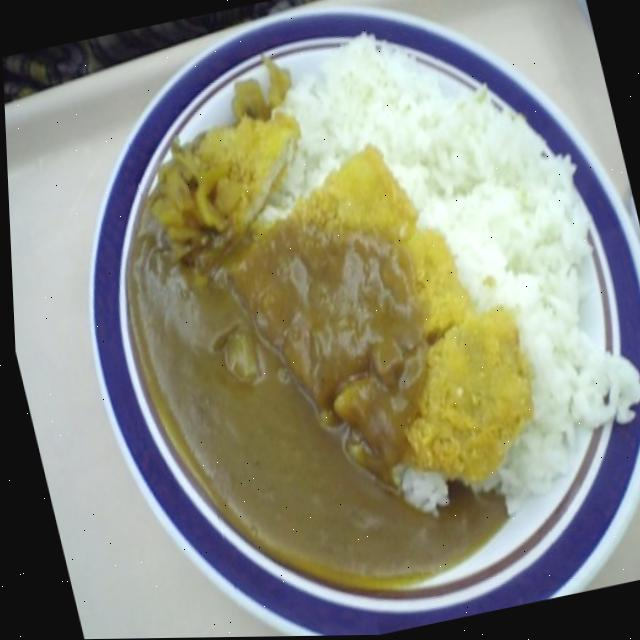猪肉菜式: (21, 0, 640, 640)
